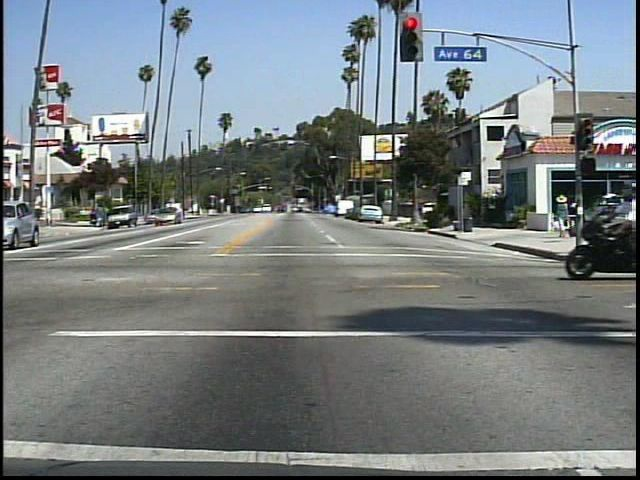person: (555, 190, 576, 243)
